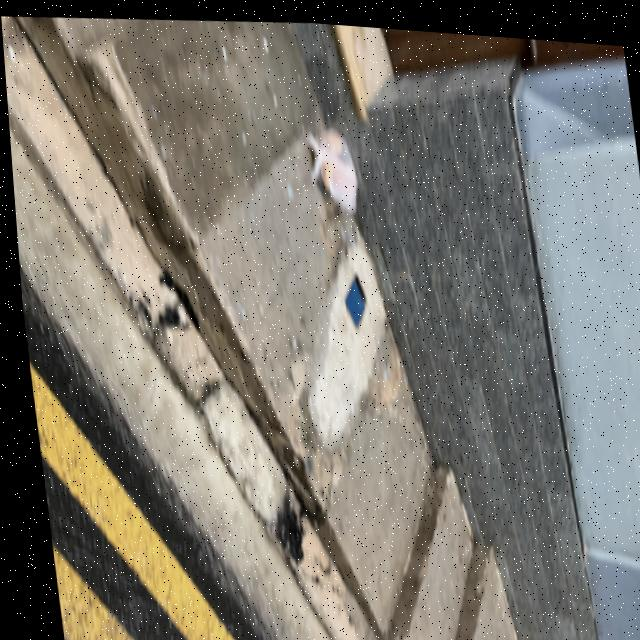Organic Waste -White Bag-: (295, 113, 363, 215)
